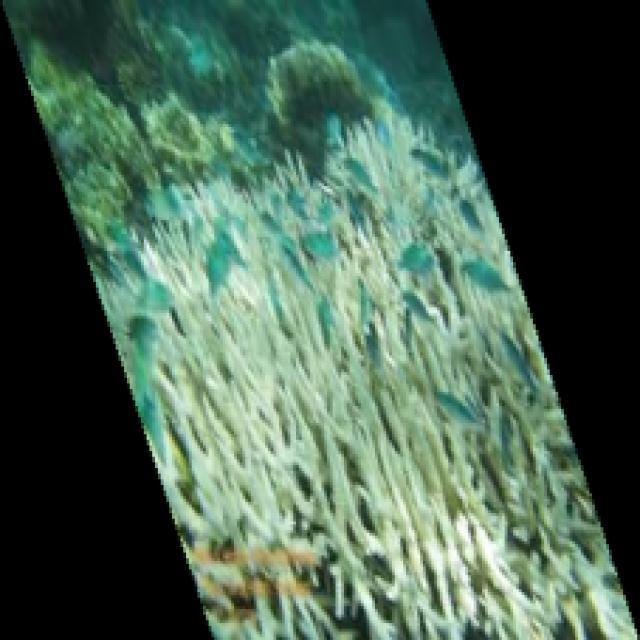Bleached: (98, 114, 640, 640)
